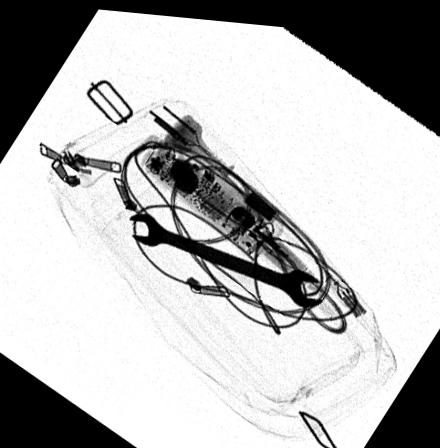Wrench: (128, 208, 323, 305)
